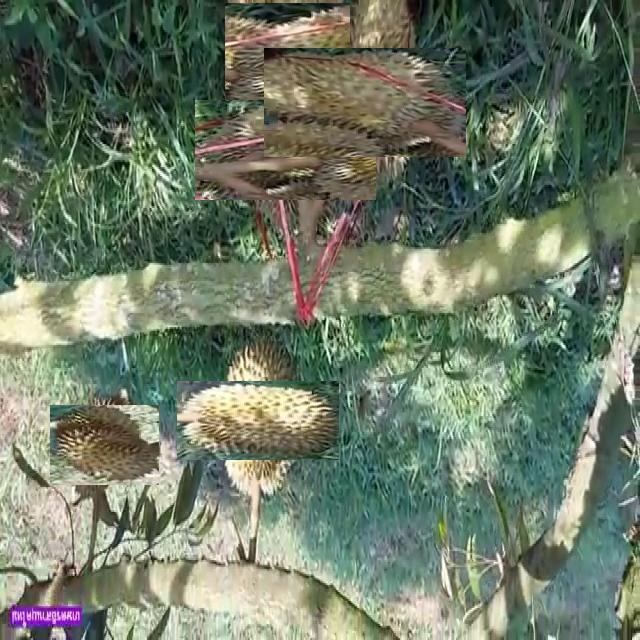durian: (287, 25, 443, 181), (215, 80, 357, 220), (225, 2, 351, 128), (198, 360, 319, 481), (57, 398, 152, 493)
